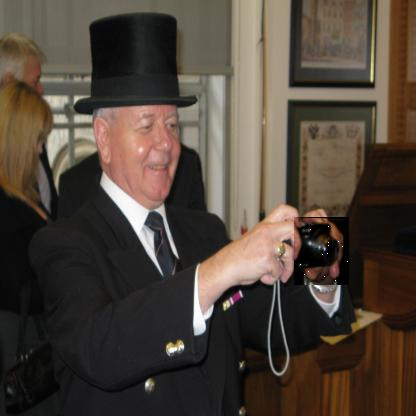Camera: (295, 218, 351, 287)
